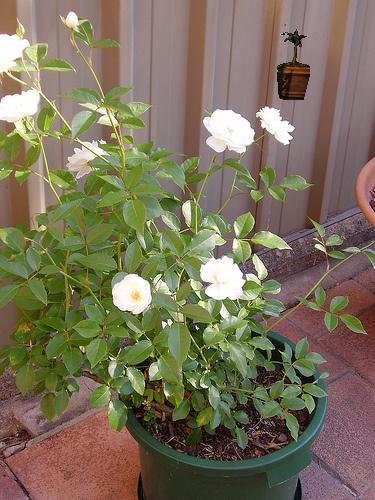tampered: (278, 30, 310, 100)
